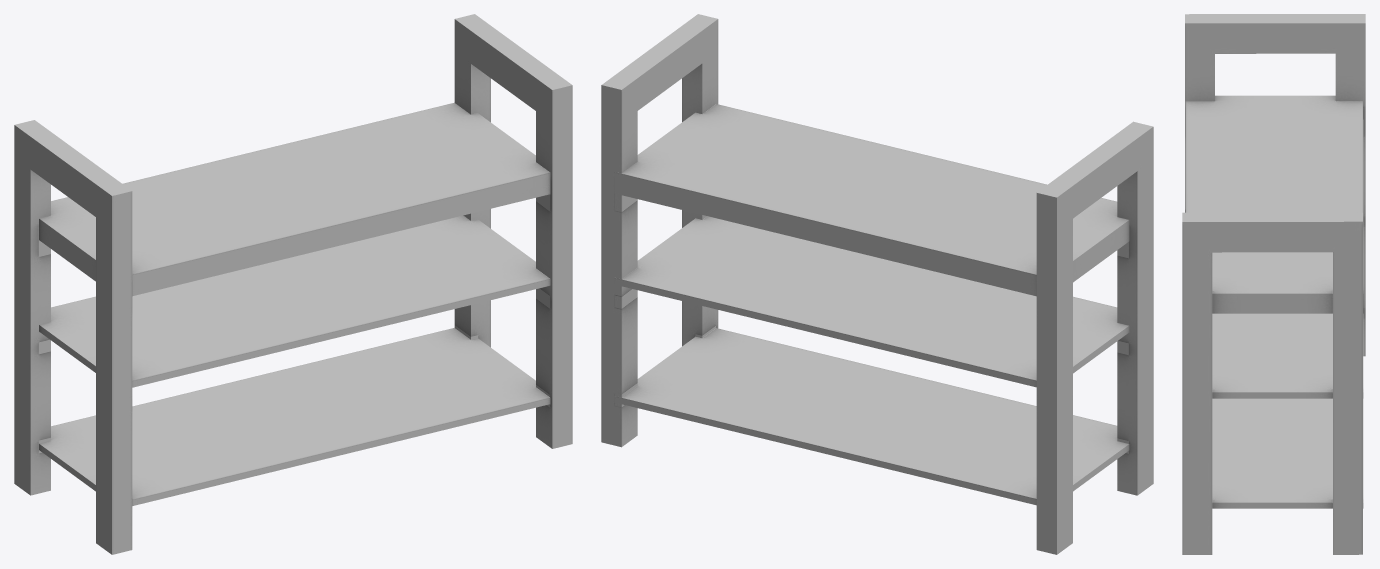
File: frl_apartment_rack_01.glb
3 views of the same model, side by side, from view 1: azimuth 30°, elevation 25°; view 2: azimuth 150°, elevation 25°; view 3: azimuth 270°, elevation 25° (orthographic). The views are drawn at different scales.
Visible parts, largest first — view 1: frl_apartment_rack_01; view 2: frl_apartment_rack_01; view 3: frl_apartment_rack_01.
Boxes of the visible parts, x1=… form: frl_apartment_rack_01: x1=14, y1=14, x2=572, y2=554; frl_apartment_rack_01: x1=601, y1=14, x2=1153, y2=554; frl_apartment_rack_01: x1=1182, y1=14, x2=1365, y2=554.
Size of the model in its own units: 0.8391 by 0.6265 by 0.3131.
Materials: 1 (1 with a texture image).
